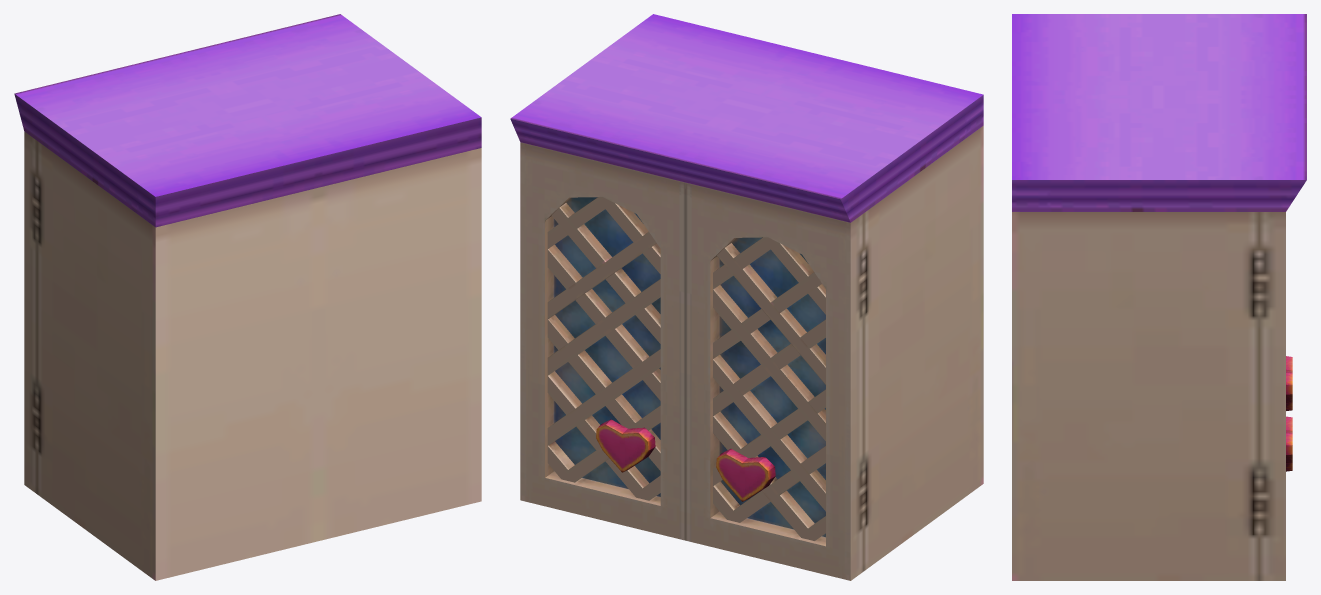
The model's file is furni_0200017_01.FBX.
3 renders of one model, left to right at view 1: azimuth 30°, elevation 25°; view 2: azimuth 150°, elevation 25°; view 3: azimuth 270°, elevation 25°, orthographic. The views are drawn at different scales.
Visible parts, largest first — view 1: furni_0200017_01; view 2: furni_0200017_01; view 3: furni_0200017_01.
Boxes of the visible parts, x1=… form: furni_0200017_01: x1=14, y1=14, x2=481, y2=580; furni_0200017_01: x1=510, y1=14, x2=983, y2=580; furni_0200017_01: x1=1012, y1=14, x2=1306, y2=580.
Size of the model in its own units: 80 by 90 by 60.
Materials: 1 (1 with a texture image).
